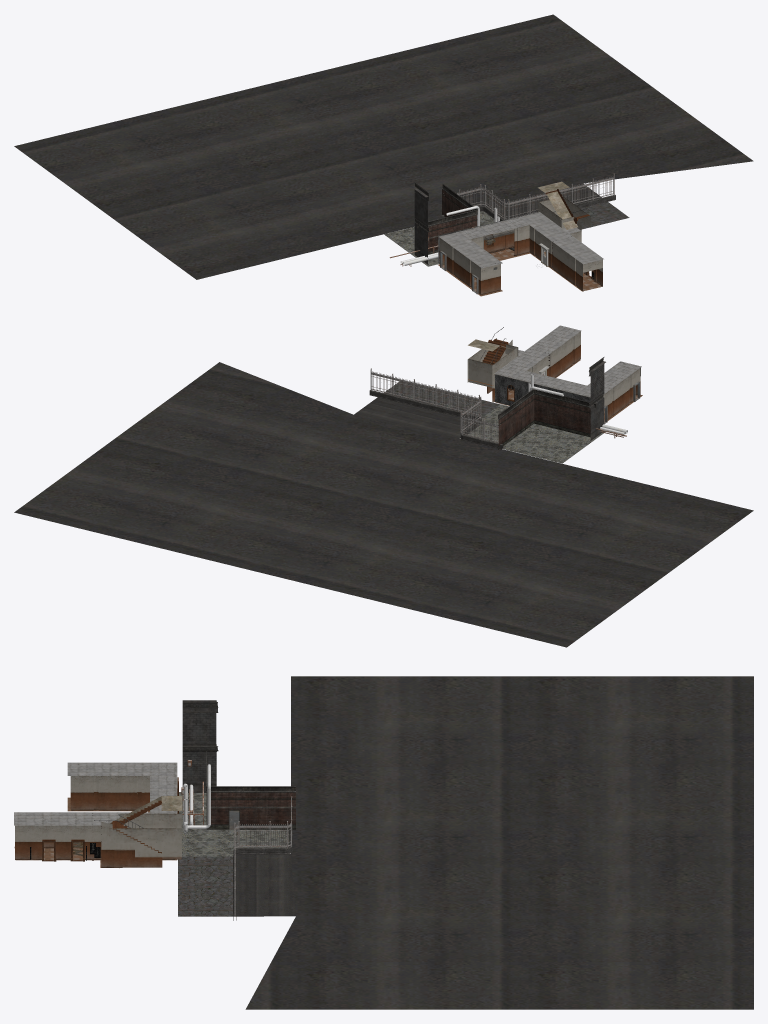
The model's file is st4_314_0_terrain_00ms.fbx.
The picture shows the model from 3 angles, top to bottom: view 1: azimuth 30°, elevation 25°; view 2: azimuth 150°, elevation 25°; view 3: azimuth 270°, elevation 25°; orthographic projection. The views are drawn at different scales.
Visible parts, largest first — view 1: LOD_1_Group_0_Sub_15__st1_townAsphalt00_Mat, LOD_1_Group_0_Sub_2__st2_police1fRightWall02, LOD_1_Group_0_Sub_4__st2_police1fRightCeiling02, LOD_1_Group_0_Sub_18__st1_townPoliceFence01_Mat, LOD_1_Group_0_Sub_19__st1_townBuild01_Mat1, LOD_1_Group_0_Sub_21__st1_townPolice01_Mat1, LOD_1_Group_0_Sub_22__st2_police1fRightFloor07, LOD_1_Group_0_Sub_16__st1_townGround02_Mat, LOD_1_Group_0_Sub_30__st2_police1fRightFloor02, LOD_1_Group_0_Sub_34__st2_police1fLeftCeiling02, LOD_1_Group_0_Sub_23__st1_townParts01_Mat; view 2: LOD_1_Group_0_Sub_15__st1_townAsphalt00_Mat, LOD_1_Group_0_Sub_2__st2_police1fRightWall02, LOD_1_Group_0_Sub_19__st1_townBuild01_Mat1, LOD_1_Group_0_Sub_4__st2_police1fRightCeiling02, LOD_1_Group_0_Sub_22__st2_police1fRightFloor07, LOD_1_Group_0_Sub_18__st1_townPoliceFence01_Mat, LOD_1_Group_0_Sub_16__st1_townGround02_Mat, LOD_1_Group_0_Sub_21__st1_townPolice01_Mat1, LOD_1_Group_0_Sub_17__fefefefe_st1_townPolice00_Mat, LOD_1_Group_0_Sub_14__OutWall; view 3: LOD_1_Group_0_Sub_15__st1_townAsphalt00_Mat, LOD_1_Group_0_Sub_2__st2_police1fRightWall02, LOD_1_Group_0_Sub_4__st2_police1fRightCeiling02, LOD_1_Group_0_Sub_19__st1_townBuild01_Mat1, LOD_1_Group_0_Sub_16__st1_townGround02_Mat, LOD_1_Group_0_Sub_21__st1_townPolice01_Mat1, LOD_1_Group_0_Sub_22__st2_police1fRightFloor07, LOD_1_Group_0_Sub_18__st1_townPoliceFence01_Mat, LOD_1_Group_0_Sub_23__st1_townParts01_Mat, LOD_1_Group_0_Sub_17__fefefefe_st1_townPolice00_Mat.
Part boxes in pixels (<box>): LOD_1_Group_0_Sub_15__st1_townAsphalt00_Mat: <box>14,14,753,279</box>; LOD_1_Group_0_Sub_2__st2_police1fRightWall02: <box>439,195,602,294</box>; LOD_1_Group_0_Sub_4__st2_police1fRightCeiling02: <box>439,212,603,268</box>; LOD_1_Group_0_Sub_18__st1_townPoliceFence01_Mat: <box>443,173,614,220</box>; LOD_1_Group_0_Sub_19__st1_townBuild01_Mat1: <box>417,185,477,254</box>; LOD_1_Group_0_Sub_21__st1_townPolice01_Mat1: <box>414,183,428,264</box>; LOD_1_Group_0_Sub_22__st2_police1fRightFloor07: <box>384,211,494,266</box>; LOD_1_Group_0_Sub_16__st1_townGround02_Mat: <box>580,202,629,229</box>; LOD_1_Group_0_Sub_30__st2_police1fRightFloor02: <box>438,249,601,296</box>; LOD_1_Group_0_Sub_34__st2_police1fLeftCeiling02: <box>538,181,577,229</box>; LOD_1_Group_0_Sub_23__st1_townParts01_Mat: <box>389,206,499,266</box>; LOD_1_Group_0_Sub_15__st1_townAsphalt00_Mat: <box>14,362,753,647</box>; LOD_1_Group_0_Sub_2__st2_police1fRightWall02: <box>467,331,640,418</box>; LOD_1_Group_0_Sub_19__st1_townBuild01_Mat1: <box>498,389,595,449</box>; LOD_1_Group_0_Sub_4__st2_police1fRightCeiling02: <box>494,325,641,397</box>; LOD_1_Group_0_Sub_22__st2_police1fRightFloor07: <box>459,404,605,463</box>; LOD_1_Group_0_Sub_18__st1_townPoliceFence01_Mat: <box>370,368,500,442</box>; LOD_1_Group_0_Sub_16__st1_townGround02_Mat: <box>384,381,499,417</box>; LOD_1_Group_0_Sub_21__st1_townPolice01_Mat1: <box>589,357,605,440</box>; LOD_1_Group_0_Sub_17__fefefefe_st1_townPolice00_Mat: <box>369,390,503,449</box>; LOD_1_Group_0_Sub_14__OutWall: <box>495,374,590,405</box>; LOD_1_Group_0_Sub_15__st1_townAsphalt00_Mat: <box>236,676,753,1009</box>; LOD_1_Group_0_Sub_2__st2_police1fRightWall02: <box>15,776,181,867</box>; LOD_1_Group_0_Sub_4__st2_police1fRightCeiling02: <box>14,762,177,825</box>; LOD_1_Group_0_Sub_19__st1_townBuild01_Mat1: <box>206,758,295,829</box>; LOD_1_Group_0_Sub_16__st1_townGround02_Mat: <box>178,856,235,916</box>; LOD_1_Group_0_Sub_21__st1_townPolice01_Mat1: <box>182,700,218,792</box>; LOD_1_Group_0_Sub_22__st2_police1fRightFloor07: <box>179,792,290,856</box>; LOD_1_Group_0_Sub_18__st1_townPoliceFence01_Mat: <box>231,796,292,915</box>; LOD_1_Group_0_Sub_23__st1_townParts01_Mat: <box>181,760,210,832</box>; LOD_1_Group_0_Sub_17__fefefefe_st1_townPolice00_Mat: <box>233,824,292,920</box>.
Size of the model in its own units: 79.09 by 10.38 by 74.12.
